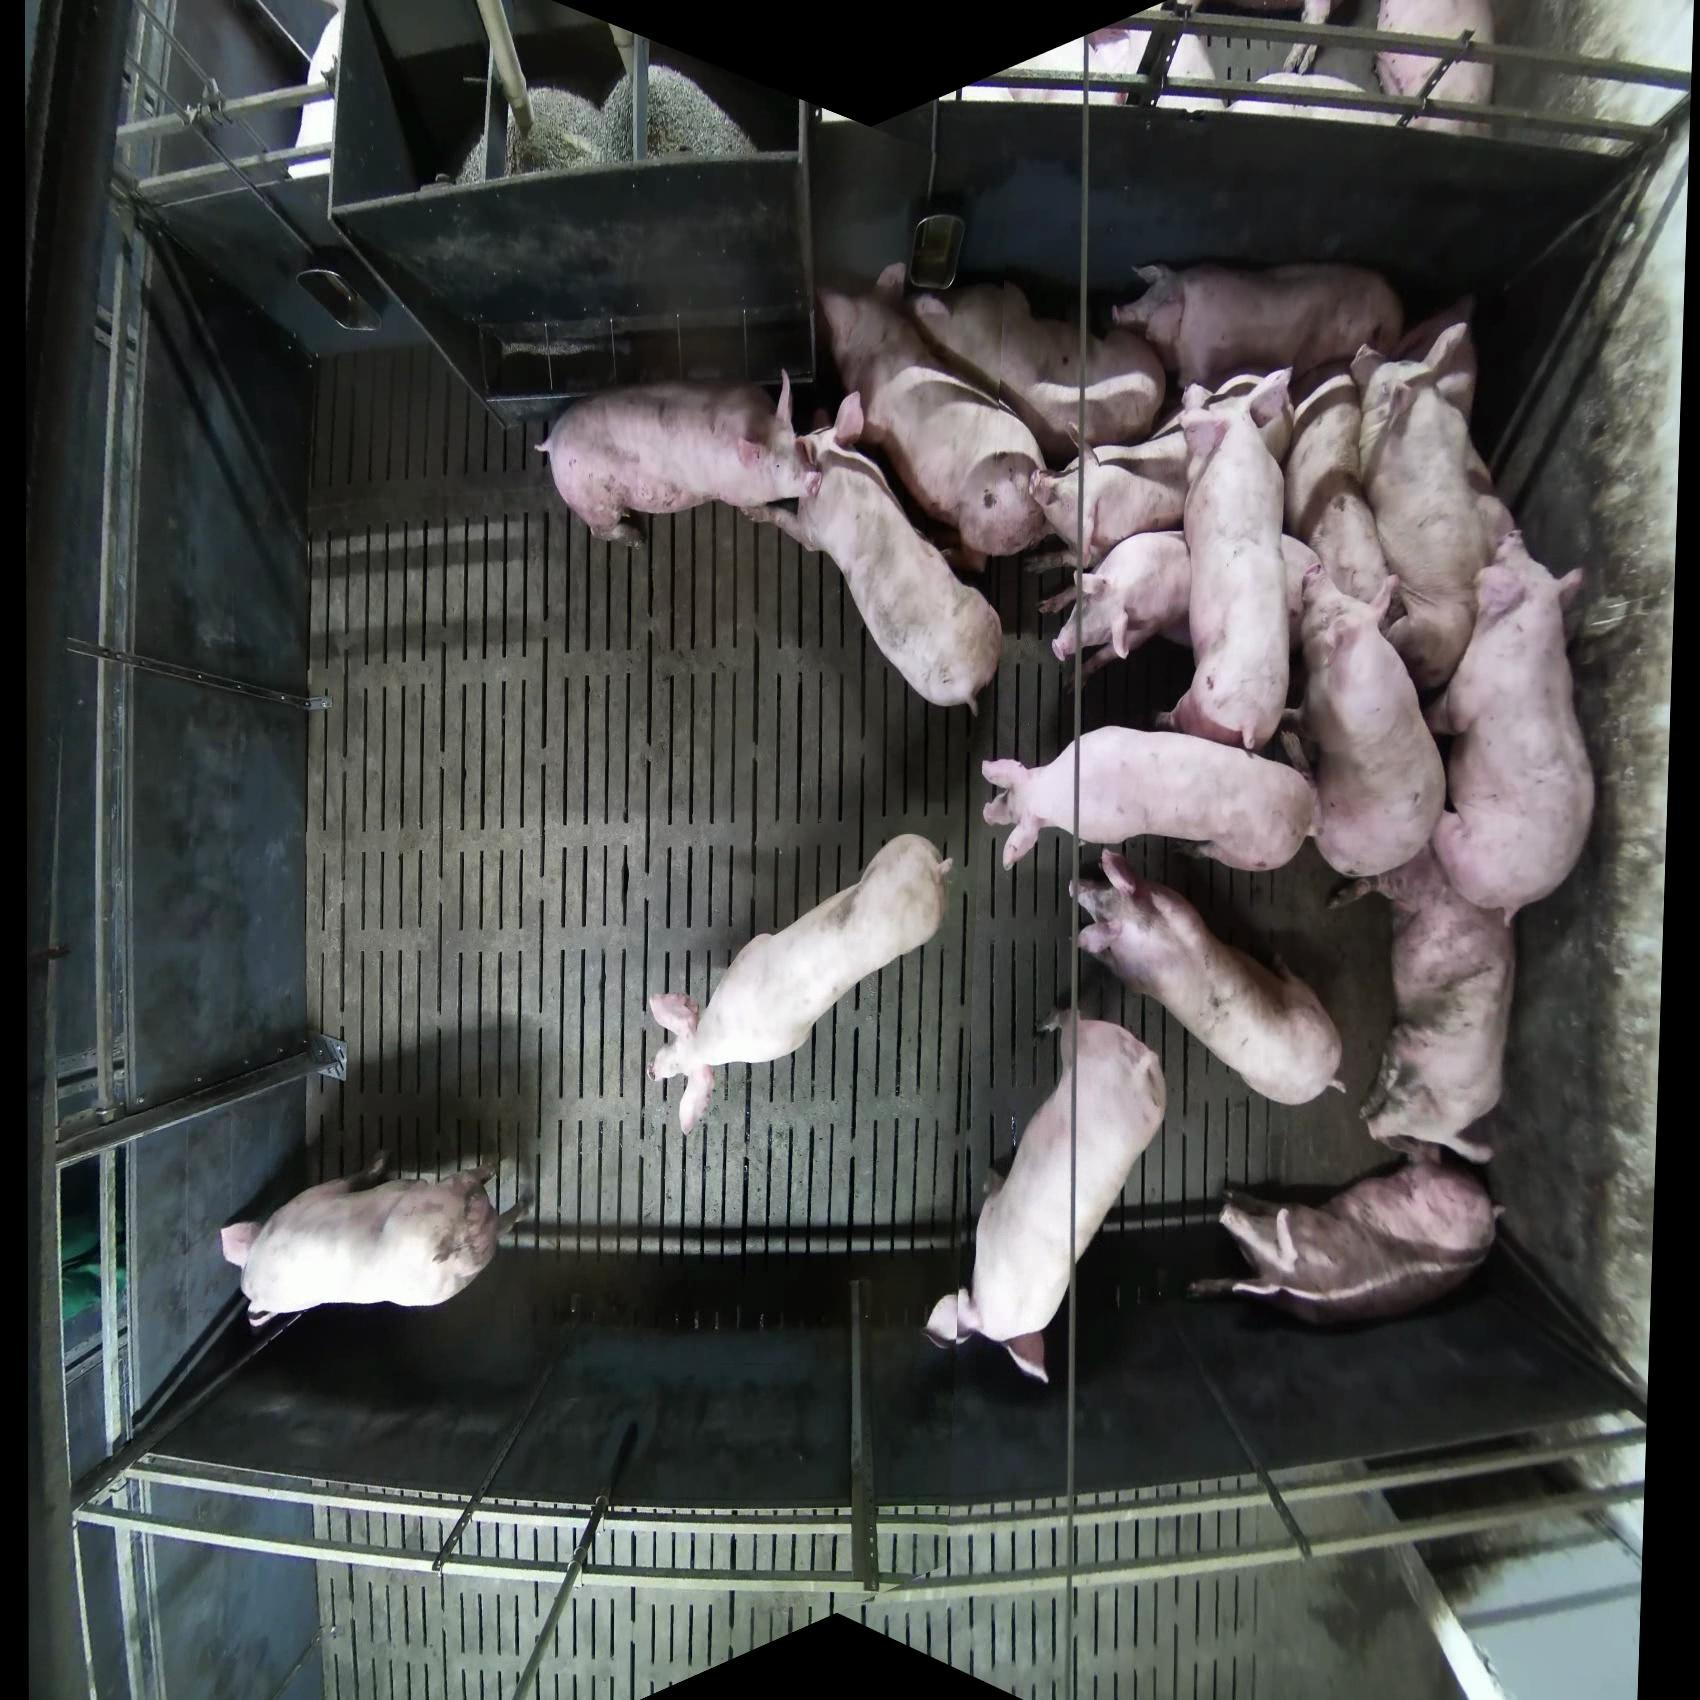pig: (646, 831, 954, 1138), (923, 1007, 1169, 1386), (738, 414, 1004, 718), (1070, 845, 1347, 1108), (816, 262, 1052, 565), (1424, 529, 1597, 922), (1331, 844, 1518, 1164), (220, 1147, 534, 1329), (1283, 536, 1448, 881), (1186, 1154, 1505, 1328), (1356, 367, 1516, 693), (981, 724, 1322, 875), (536, 374, 824, 550), (1168, 364, 1294, 755), (908, 279, 1168, 467), (1110, 258, 1406, 392), (1281, 367, 1393, 602), (1029, 433, 1189, 571), (1048, 529, 1192, 673), (1375, 2, 1498, 137)
